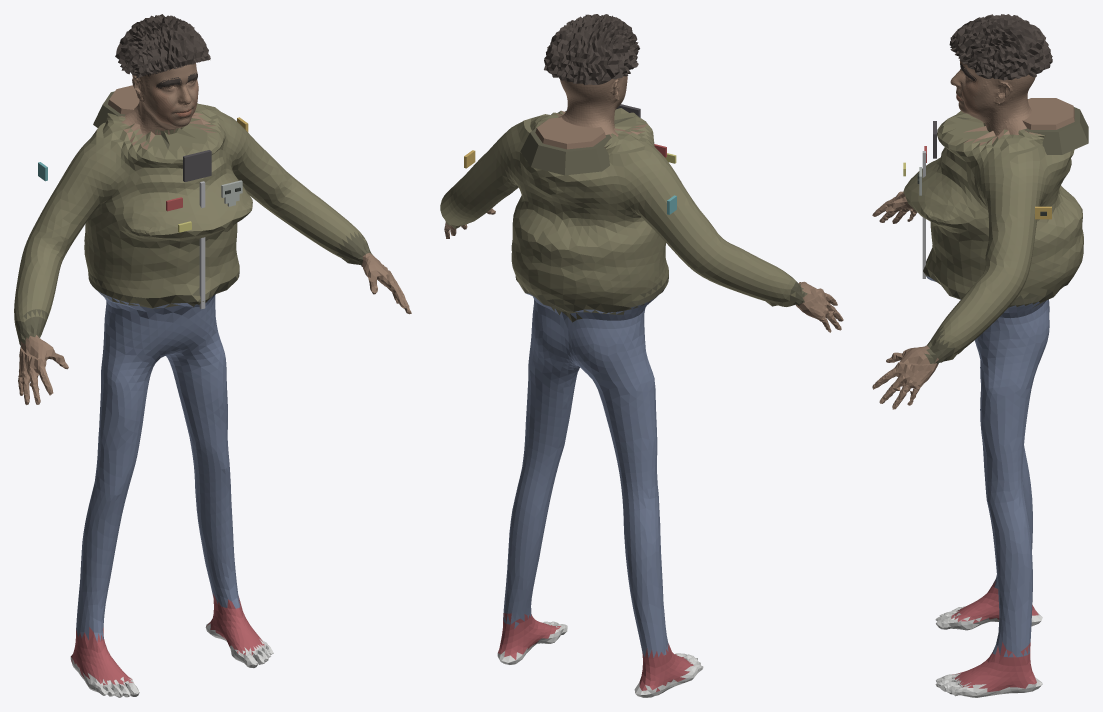
File: frasier_temple_gnm.glb
3 views of the same model, side by side, from view 1: azimuth 30°, elevation 25°; view 2: azimuth 150°, elevation 25°; view 3: azimuth 270°, elevation 25° (orthographic).
Visible parts, largest first — view 1: frasier_temple_portrait; view 2: frasier_temple_portrait; view 3: frasier_temple_portrait.
Boxes of the visible parts, <box> form: frasier_temple_portrait: <box>14,14,411,697</box>; frasier_temple_portrait: <box>440,14,843,697</box>; frasier_temple_portrait: <box>872,14,1088,697</box>.
Size of the model in its own units: 1.14 by 1.83 by 0.5611.
